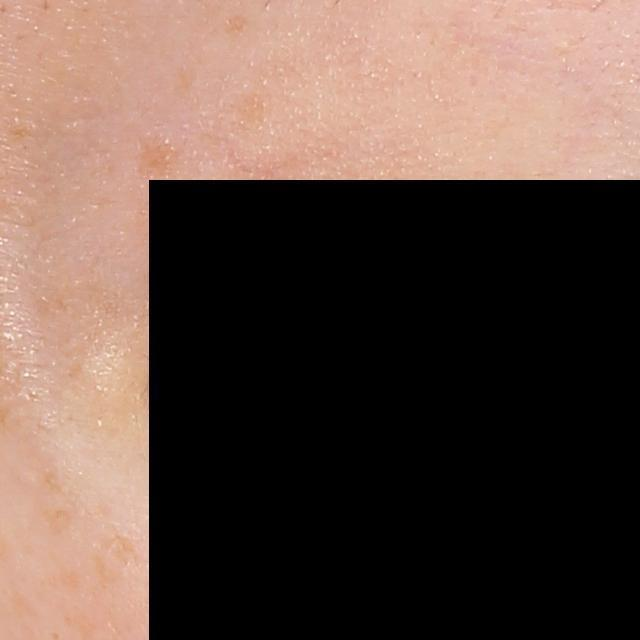melasma: (132, 132, 184, 184), (233, 89, 276, 132), (101, 529, 142, 564), (39, 565, 86, 595), (39, 506, 75, 537), (222, 14, 247, 35)
